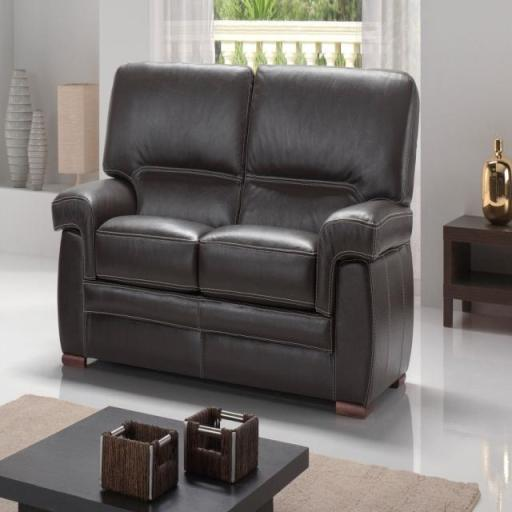sofa: (58, 47, 444, 426)
